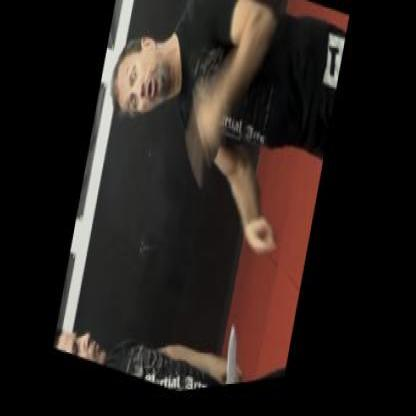knife: (216, 323, 259, 390)
